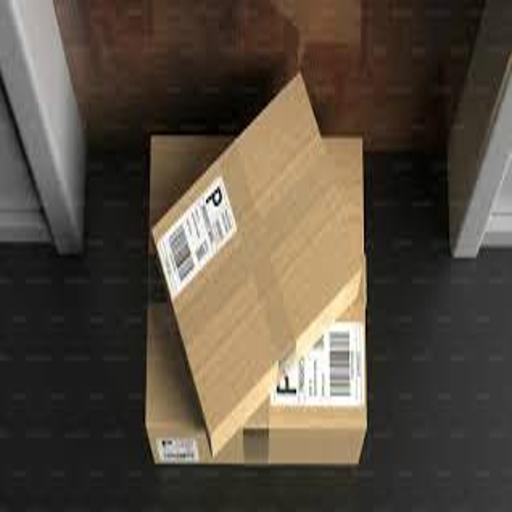Other: (152, 72, 373, 454), (146, 134, 372, 474)
